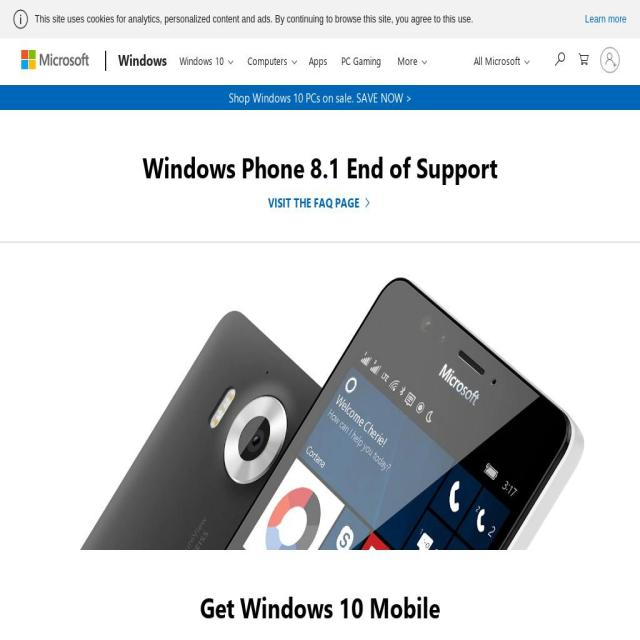button: (266, 184, 374, 218), (171, 38, 243, 82), (464, 38, 533, 82), (239, 38, 307, 82), (111, 38, 170, 84), (389, 38, 437, 82), (336, 39, 386, 80), (303, 39, 333, 80), (585, 8, 627, 30), (548, 40, 571, 77), (579, 38, 589, 78)
heading: (32, 149, 608, 183), (32, 589, 608, 623)
image: (0, 262, 640, 550), (13, 8, 29, 30)
link: (228, 88, 412, 106)
text: (34, 12, 473, 25), (268, 194, 360, 210), (118, 49, 167, 70), (474, 52, 520, 68)
